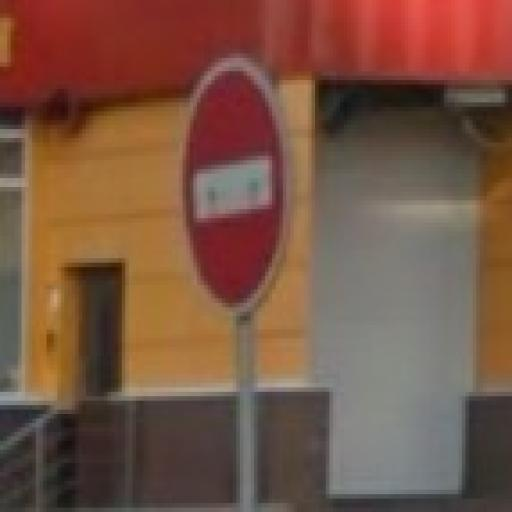traffic_sign: (177, 55, 295, 322)
